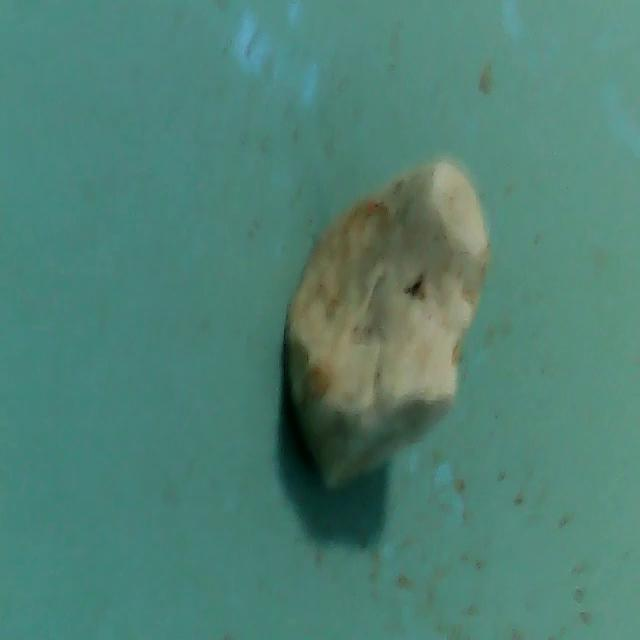rock: (280, 150, 490, 502)
